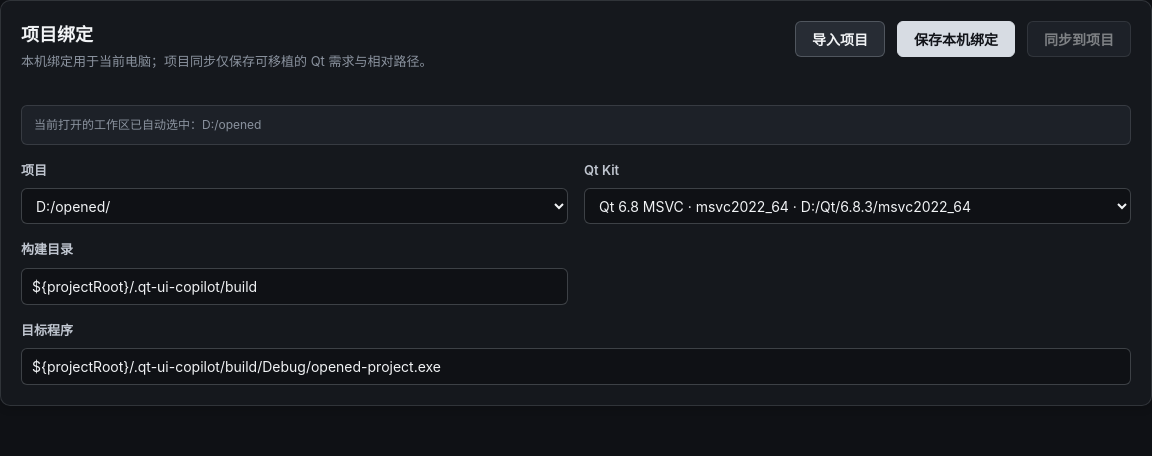
it: ProjectBindingPanel › selects the opened workspace, saves locally without writing project.json, then explicitly synchronizes a portable profile
This screenshot has width=1152, height=456.
Later steps or results of the test are not shown.
Check: the dropdown showing "D:/opened/" is shown, box x1=21 y1=188 x2=568 y2=224
Check: the dropdown labelled "Qt Kit" shows "Qt 6.8 MSVC · msvc2022_64 · D:/Qt/6.8.3/msvc2022_64", box x1=584 y1=188 x2=1131 y2=224
Click the button "保存本机绑定".
click(956, 39)  # box x1=897 y1=21 x2=1015 y2=57
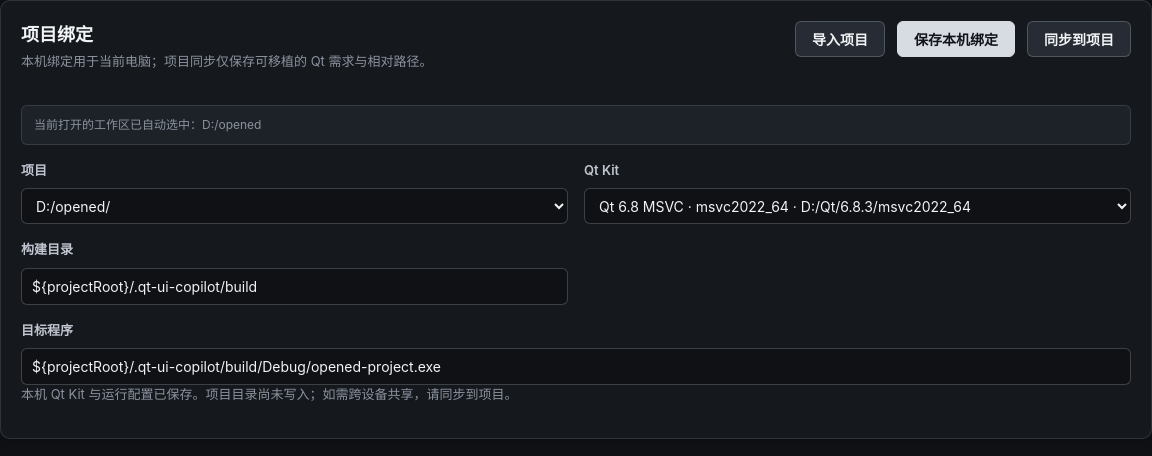
Check: the text "本机 Qt Kit 与运行配置已保存。项目目录尚未写入；如需跨设备共享，请同步到项目。" is shown, box x1=21 y1=386 x2=518 y2=402
